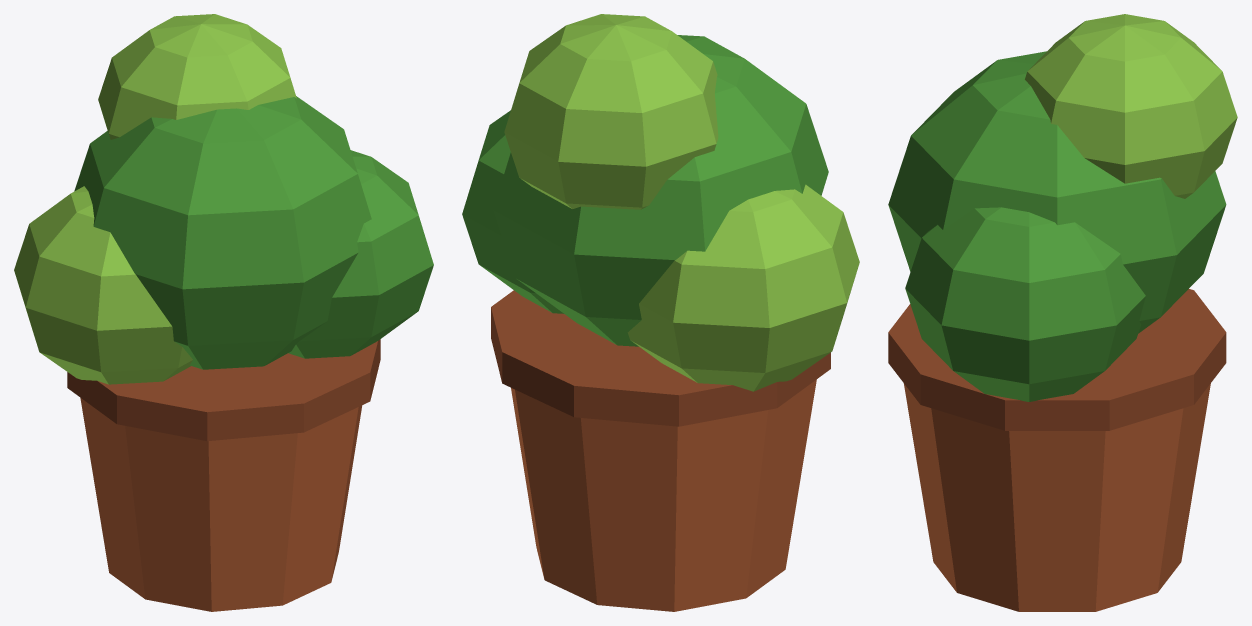
File: Saksi.fbx
3 renders of one model, left to right at view 1: azimuth 30°, elevation 25°; view 2: azimuth 150°, elevation 25°; view 3: azimuth 270°, elevation 25°, orthographic. The views are drawn at different scales.
Visible parts, largest first — view 1: Saksi; view 2: Saksi; view 3: Saksi.
Boxes of the visible parts, bbox=[...] form: Saksi: bbox=[14, 14, 433, 611]; Saksi: bbox=[462, 14, 859, 611]; Saksi: bbox=[888, 14, 1237, 611].
Size of the model in its own units: 80 by 106 by 62.
